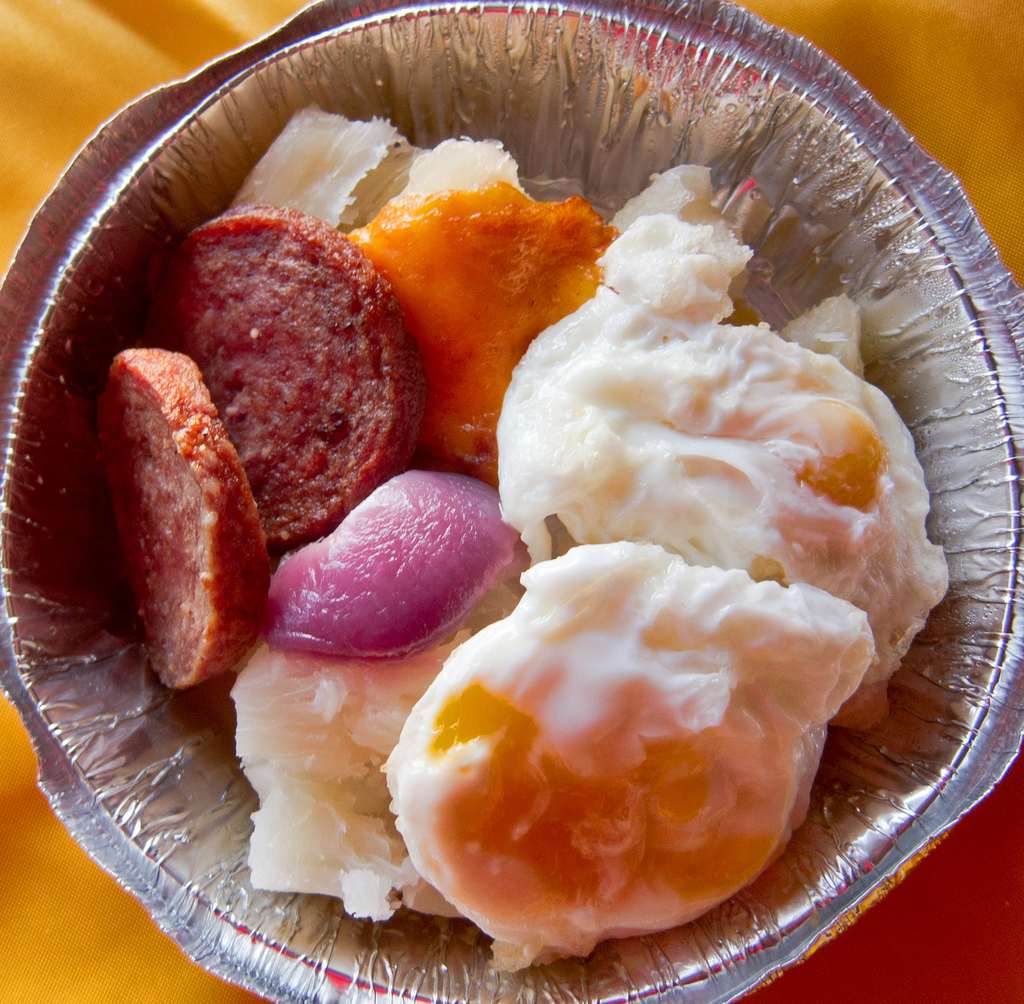fried egg: (403, 548, 841, 942), (522, 266, 948, 620)
